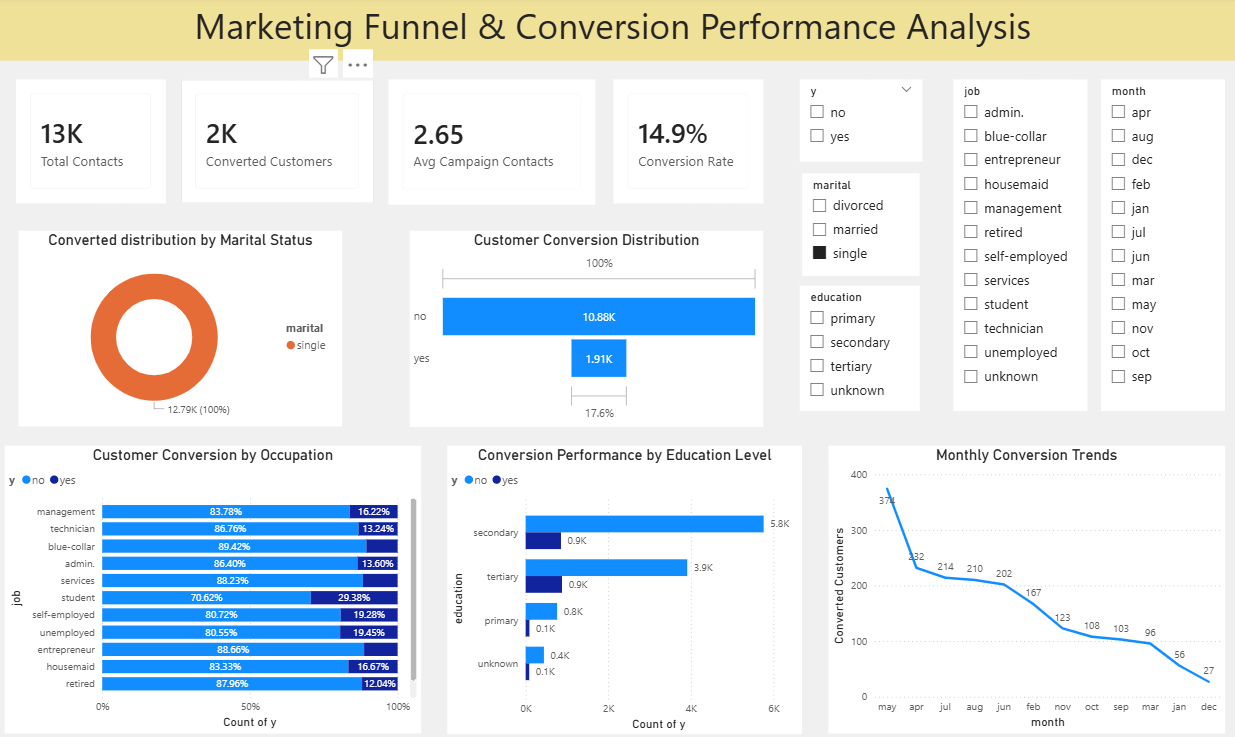

This screenshot's page, from the dashboard's own definition file:
{"tool":"powerbi","page":{"name":"Page 1","canvas":[1500,900],"ordinal":0},"visuals":[{"type":"textbox","box":[0,0,1500.5,76.9],"z":0},{"type":"cardVisual","fields":{"Data":["bank-full.Total Contacts"]},"box":[30.2,98.9,181,149.6],"z":1000},{"type":"cardVisual","fields":{"Data":["bank-full.Converted Customers"]},"box":[229.2,98.9,232.8,149.6],"z":2000},{"type":"cardVisual","fields":{"Data":["bank-full.Conversion Rate"]},"box":[750.4,100.1,181,149.6],"z":3000},{"type":"cardVisual","fields":{"Data":["bank-full.Avg Campaign Contacts"]},"box":[479,98.9,249.7,150.8],"z":4000},{"type":"funnel","title":"Customer Conversion Distribution","fields":{"Y":["CountNonNull(bank-full.marital)"],"Category":["bank-full.y"]},"box":[505.2,282,426.8,236.8],"z":5000},{"type":"hundredPercentStackedBarChart","title":"Customer Conversion by Occupation","fields":{"Category":["bank-full.job"],"Series":["bank-full.y"],"Y":["CountNonNull(bank-full.y)"]},"box":[16.6,541.4,502.2,346.9],"z":6000},{"type":"donutChart","title":"Converted distribution by Marital Status","fields":{"Category":["bank-full.marital"],"Y":["CountNonNull(bank-full.y)"]},"box":[33.8,281.4,390.8,236.4],"z":7000},{"type":"slicer","fields":{"Values":["bank-full.y"]},"box":[975.7,99.5,147.8,99.5],"z":8000},{"type":"clusteredBarChart","title":"Conversion Performance by Education Level","fields":{"Category":["bank-full.education"],"Series":["bank-full.y"],"Y":["CountNonNull(bank-full.y)"]},"box":[550.4,541.4,428.3,348.4],"z":9000},{"type":"lineChart","title":"Monthly Conversion Trends","fields":{"Category":["bank-full.month"],"Y":["bank-full.Converted Customers"]},"box":[1010.4,541.4,478.1,346.9],"z":10000},{"type":"slicer","fields":{"Values":["bank-full.marital"]},"box":[978.7,212.6,141.8,123.7],"z":11000},{"type":"slicer","fields":{"Values":["bank-full.month"]},"box":[1339.1,99.5,149.3,399.6],"z":12000},{"type":"slicer","fields":{"Values":["bank-full.job"]},"box":[1161.2,99.5,161.4,399.6],"z":13000},{"type":"slicer","fields":{"Values":["bank-full.education"]},"box":[975.7,348.4,144.8,150.8],"z":14000}]}

Visuals, with their boxes in screenshot pixels (x1, y1, x2, y2), scaled from the page's 1500x900 canvas onto the 1235x737 screenshot:
textbox: [0, 0, 1234, 63]
cardVisual - bank-full.Total Contacts: [25, 81, 174, 203]
cardVisual - bank-full.Converted Customers: [189, 81, 380, 203]
cardVisual - bank-full.Conversion Rate: [618, 82, 767, 204]
cardVisual - bank-full.Avg Campaign Contacts: [394, 81, 600, 204]
"Customer Conversion Distribution" funnel: [416, 231, 767, 425]
"Customer Conversion by Occupation" hundredPercentStackedBarChart: [14, 443, 427, 727]
"Converted distribution by Marital Status" donutChart: [28, 230, 350, 424]
slicer - bank-full.y: [803, 81, 925, 163]
"Conversion Performance by Education Level" clusteredBarChart: [453, 443, 806, 729]
"Monthly Conversion Trends" lineChart: [832, 443, 1226, 727]
slicer - bank-full.marital: [806, 174, 923, 275]
slicer - bank-full.month: [1103, 81, 1225, 409]
slicer - bank-full.job: [956, 81, 1089, 409]
slicer - bank-full.education: [803, 285, 923, 409]
